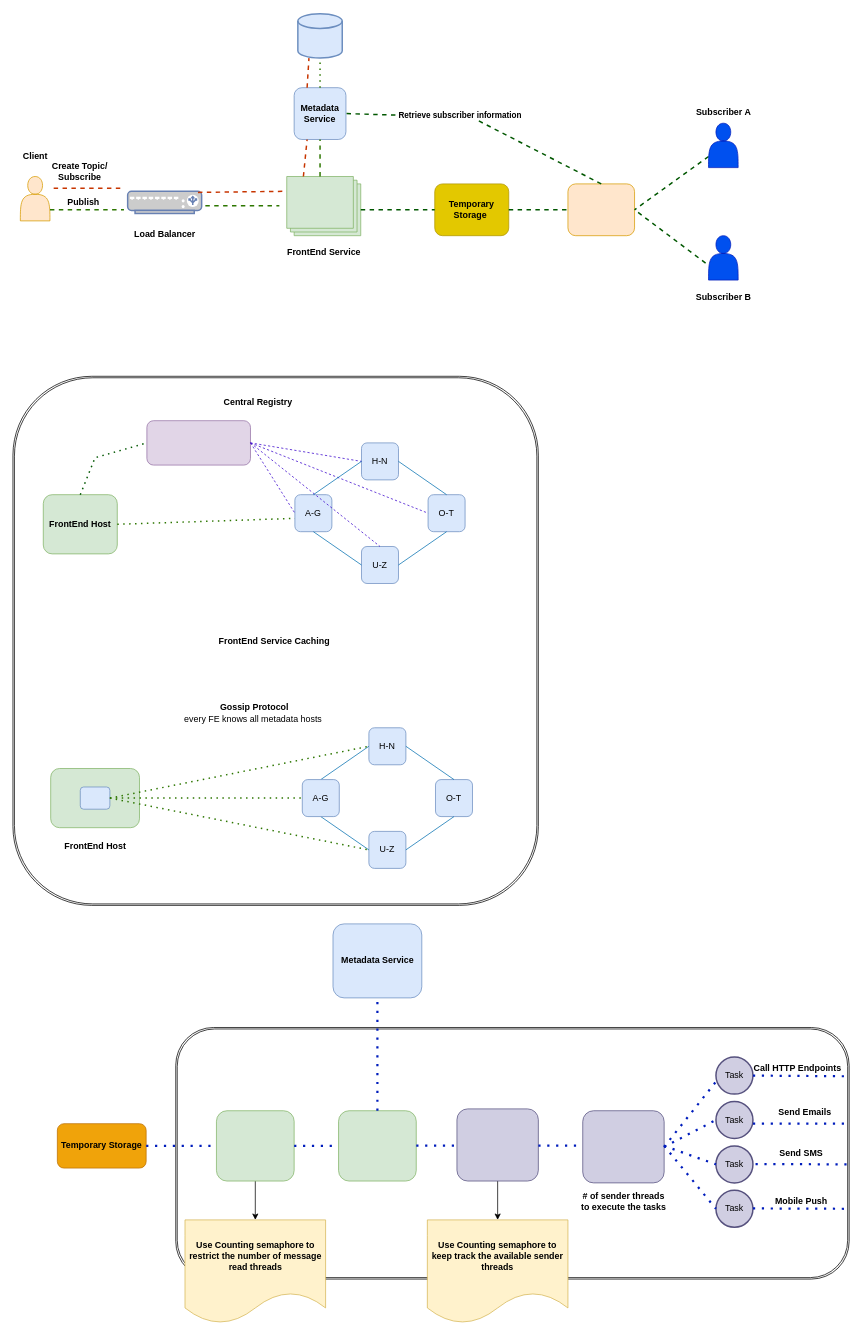
Image size: 864x1336. Some labels were removed from this diagram. Each missing label, with the centre of its shape:
"Configuration Serivce (e.g. ZooKeeper)" belongs at point (198, 442).
"Database" belongs at point (320, 35).
"Message Retriever" belongs at point (255, 1145).
"MS Client" belongs at point (377, 1145).
"Sender" belongs at point (601, 209).
"Task Creator" belongs at point (497, 1144).
"Task Executor" belongs at point (623, 1146).
